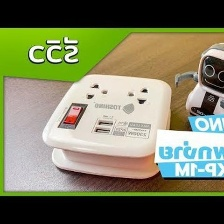three_eye_plug: (40, 64, 179, 183)
